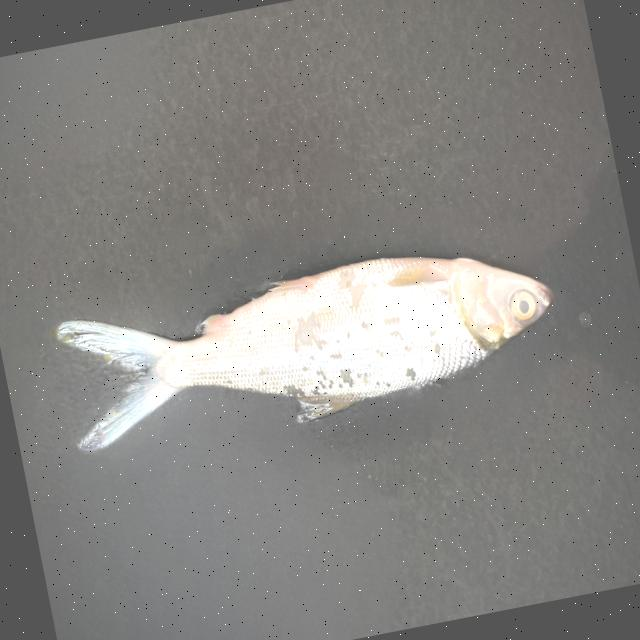400 g: (53, 227, 568, 466)
